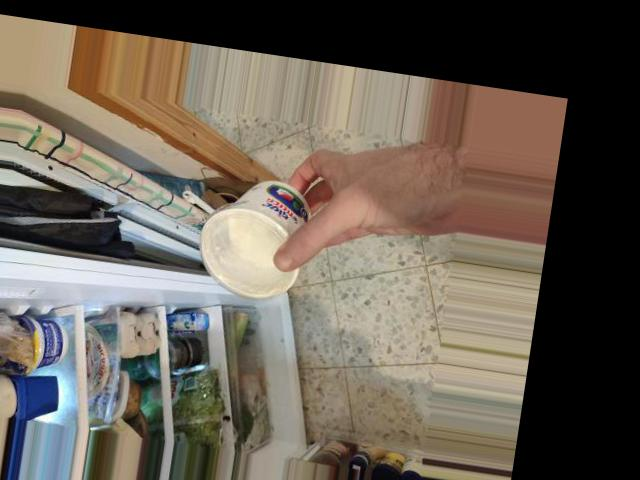cotage: (194, 166, 321, 299)
